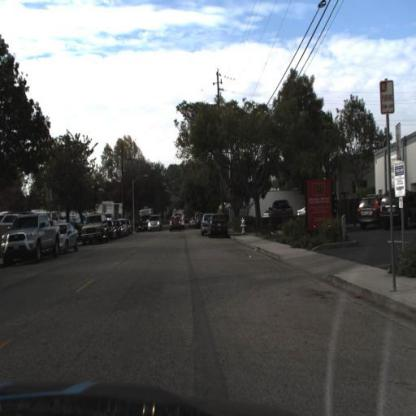car: (1, 210, 63, 268), (353, 191, 384, 235), (80, 210, 109, 250), (355, 194, 384, 233), (267, 195, 296, 227), (58, 221, 83, 257), (206, 210, 234, 242), (270, 199, 298, 221), (168, 211, 184, 237), (106, 215, 118, 248), (146, 212, 163, 235), (201, 213, 212, 241), (106, 216, 117, 242)
